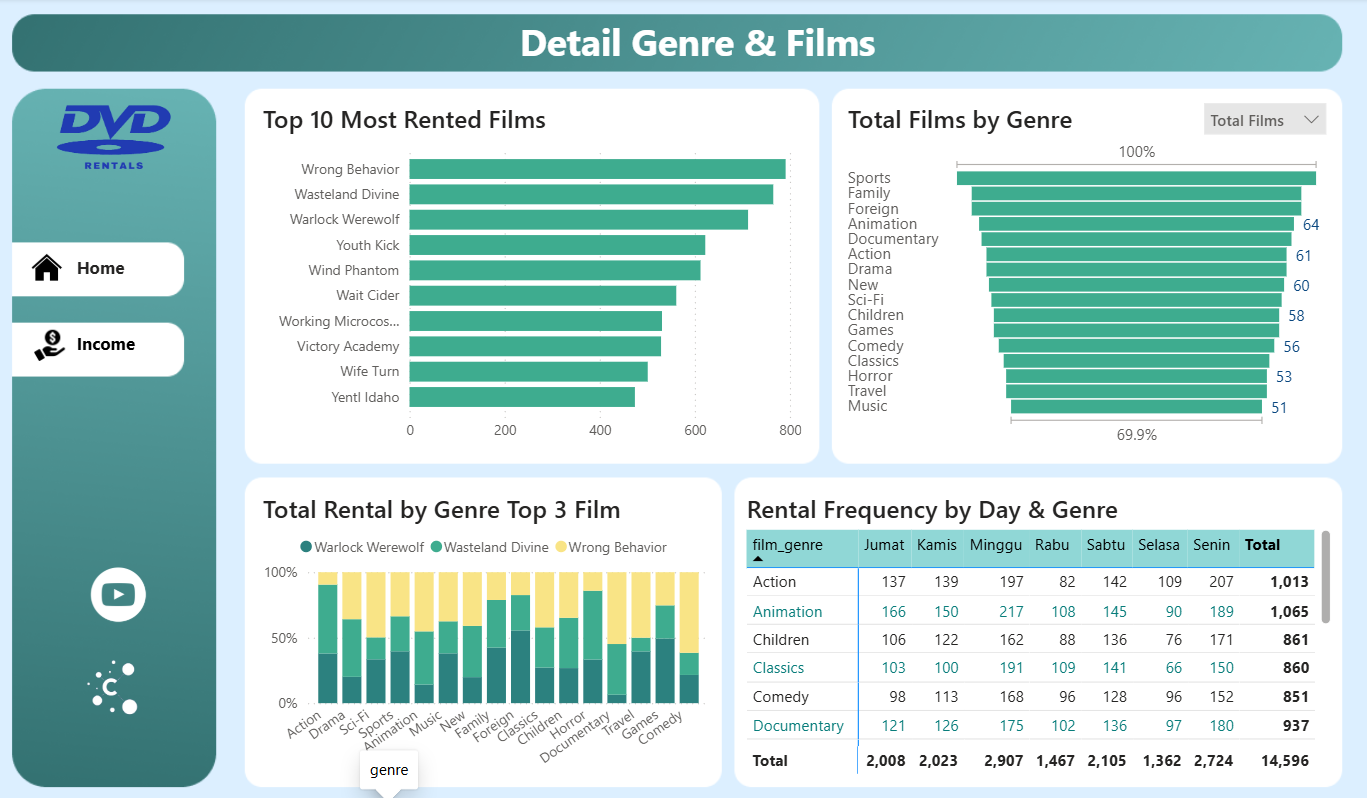

Layout of this report page (visuals, bound fields, positions):
{"tool":"powerbi","page":{"name":"genre","canvas":[1200,700],"ordinal":2},"visuals":[{"type":"hundredPercentStackedColumnChart","title":"Total Rental by Genre Top 3 Film ","fields":{"Category":["datamart_tren_pendapatan.film_genre"],"Series":["datamart_tren_pendapatan.film_title"],"Y":["datamart_tren_pendapatan.Total Rentals"]},"box":[227.5,428.1,398.8,251],"z":0},{"type":"barChart","title":"Top 10 Most Rented Films","fields":{"Category":["datamart_tren_pendapatan.film_title"],"Y":["datamart_tren_pendapatan.Total Rentals"]},"box":[227.5,88,479.7,305],"z":1000},{"type":"pivotTable","title":"Rental Frequency by Day & Genre","fields":{"Columns":["datamart_tren_pendapatan.nama_hari"],"Rows":["datamart_tren_pendapatan.film_genre"],"Values":["datamart_tren_pendapatan.Total Rentals"]},"box":[649.8,428.1,519.6,251],"z":2000},{"type":"funnel","fields":{"Category":["datamart_tren_pendapatan.film_genre"],"Y":["TrendSelector.FunnelValue"]},"box":[737.8,88,423.4,305],"z":3000},{"type":"slicer","title":"Choose","fields":{"Values":["TrendSelector.TrendType"]},"box":[1042.7,79.8,126.7,44.6],"z":4000},{"type":"textbox","box":[349.9,10.3,523.6,54],"z":5000},{"type":"textbox","box":[65.7,284.3,71.4,35.7],"z":6000},{"type":"image","box":[28.3,278.3,37.3,46.3],"z":7000},{"type":"shape","box":[14.3,277.1,145.7,48.6],"z":8000},{"type":"image","box":[37.3,74.6,131.2,88.8],"z":9000},{"type":"image","box":[25.6,207.8,38.9,48.9],"z":10000},{"type":"textbox","box":[65.6,217.8,88.9,30],"z":11000},{"type":"shape","box":[14.4,207.8,145.6,48.9],"z":12000},{"type":"image","box":[68.2,467,75.9,104.2],"z":13000},{"type":"image","box":[63,553.2,79.8,95.2],"z":14000}]}

Visuals, with their boxes in screenshot pixels (x1, y1, x2, y2), scaled from the page's 1200x700 canvas onto the 1367x798 screenshot:
"Total Rental by Genre Top 3 Film " hundredPercentStackedColumnChart: bbox=[259, 488, 713, 774]
"Top 10 Most Rented Films" barChart: bbox=[259, 100, 806, 448]
"Rental Frequency by Day & Genre" pivotTable: bbox=[740, 488, 1332, 774]
funnel - datamart_tren_pendapatan.film_genre x TrendSelector.FunnelValue: bbox=[840, 100, 1323, 448]
"Choose" slicer: bbox=[1188, 91, 1332, 142]
textbox: bbox=[399, 12, 995, 73]
textbox: bbox=[75, 324, 156, 365]
image: bbox=[32, 317, 75, 370]
shape: bbox=[16, 316, 182, 371]
image: bbox=[42, 85, 192, 186]
image: bbox=[29, 237, 73, 293]
textbox: bbox=[75, 248, 176, 282]
shape: bbox=[16, 237, 182, 293]
image: bbox=[78, 532, 164, 651]
image: bbox=[72, 631, 163, 739]
